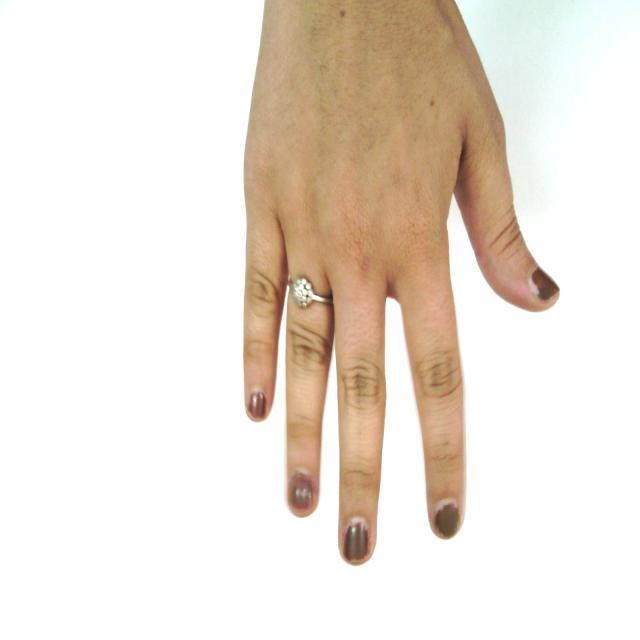Fingernail: (343, 516, 370, 562), (527, 265, 560, 302), (290, 467, 314, 514), (434, 497, 458, 540), (247, 386, 266, 421)
